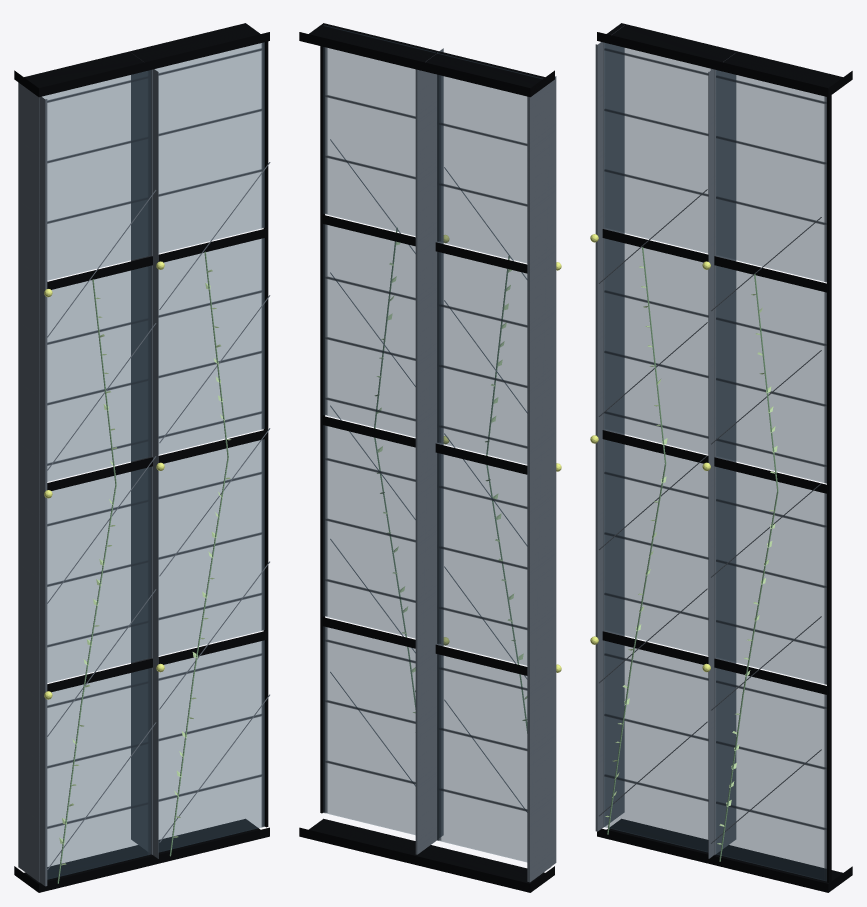
3 renders of one model, left to right at view 1: azimuth 30°, elevation 25°; view 2: azimuth 150°, elevation 25°; view 3: azimuth 330°, elevation 25°, orthographic.
Parts seen in each view (by area): view 1: Fin_Plates, Glass_Pane_12, Glass_Pane_11, Glass_Pane_13, Glass_Pane_02, Glass_Pane_01, Glass_Pane_03, Glass_Pane_10, Glass_Pane_00, Trellis_Posts, Transoms, Head_Track (+5 smaller); view 2: Fin_Plates, Glass_Pane_11, Glass_Pane_12, Glass_Pane_10, Glass_Pane_01, Glass_Pane_02, Glass_Pane_00, Glass_Pane_13, Glass_Pane_03, Trellis_Posts, Head_Track, Sill_Track (+5 smaller); view 3: Fin_Plates, Glass_Pane_11, Glass_Pane_12, Glass_Pane_13, Glass_Pane_10, Glass_Pane_02, Glass_Pane_01, Glass_Pane_03, Glass_Pane_00, Trellis_Posts, Transoms, Head_Track (+5 smaller).
Boxes of the visible parts, <box> form: Fin_Plates: <box>18,53,152,882</box>; Glass_Pane_12: <box>158,238,264,454</box>; Glass_Pane_11: <box>158,439,264,655</box>; Glass_Pane_13: <box>155,42,264,253</box>; Glass_Pane_02: <box>47,265,151,481</box>; Glass_Pane_01: <box>47,467,151,682</box>; Glass_Pane_03: <box>42,70,151,280</box>; Glass_Pane_10: <box>158,640,264,852</box>; Glass_Pane_00: <box>47,668,151,879</box>; Trellis_Posts: <box>39,69,158,886</box>; Transoms: <box>47,228,266,692</box>; Head_Track: <box>14,23,269,97</box>; Fin_Plates: <box>415,54,551,882</box>; Glass_Pane_11: <box>323,425,415,638</box>; Glass_Pane_12: <box>323,224,415,436</box>; Glass_Pane_10: <box>323,626,415,834</box>; Glass_Pane_01: <box>437,453,527,665</box>; Glass_Pane_02: <box>437,251,527,464</box>; Glass_Pane_00: <box>437,654,527,861</box>; Glass_Pane_13: <box>323,25,435,235</box>; Glass_Pane_03: <box>437,53,542,262</box>; Trellis_Posts: <box>437,48,556,866</box>; Head_Track: <box>299,23,554,97</box>; Sill_Track: <box>299,818,554,892</box>; Fin_Plates: <box>603,25,736,854</box>; Glass_Pane_11: <box>716,467,826,684</box>; Glass_Pane_12: <box>716,266,826,483</box>; Glass_Pane_13: <box>716,70,826,282</box>; Glass_Pane_10: <box>716,668,826,881</box>; Glass_Pane_02: <box>604,238,708,454</box>; Glass_Pane_01: <box>604,440,708,655</box>; Glass_Pane_03: <box>604,43,712,252</box>; Glass_Pane_00: <box>604,641,708,851</box>; Trellis_Posts: <box>595,42,714,858</box>; Transoms: <box>602,229,827,694</box>; Head_Track: <box>597,23,852,97</box>.
Size of the model in its own units: 4.01 by 13.3 by 1.04.
Materials: 6 (3 with a texture image).
